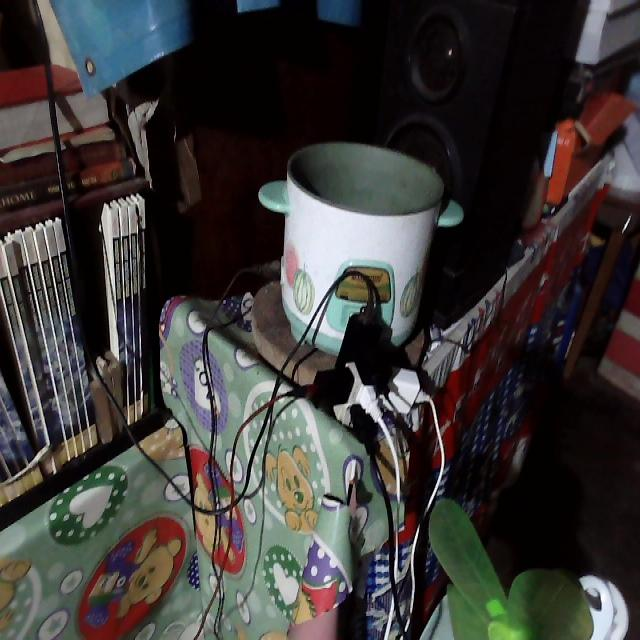-: (306, 303, 424, 445)
